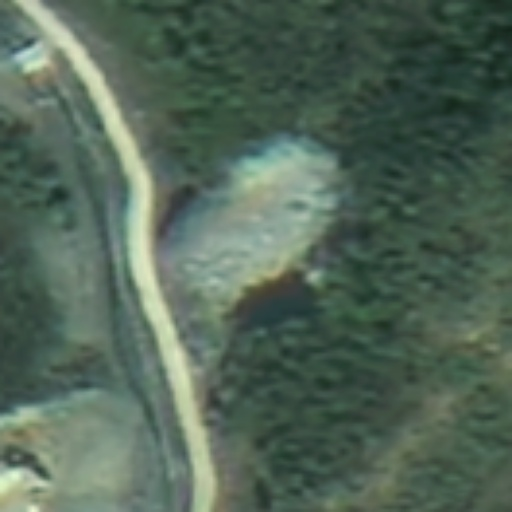landslide: (171, 135, 338, 302)
